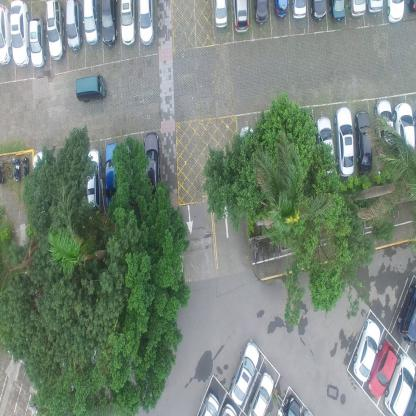car: (384, 351, 415, 415), (352, 316, 381, 384), (230, 339, 259, 407), (367, 341, 398, 399), (334, 106, 354, 178), (10, 0, 31, 68), (246, 370, 275, 416), (354, 108, 373, 176), (315, 115, 335, 179), (374, 96, 394, 159), (45, 0, 66, 60), (394, 98, 415, 157), (85, 146, 102, 213), (32, 150, 49, 217), (398, 286, 416, 343), (66, 0, 84, 55), (145, 130, 160, 194), (75, 74, 107, 103), (29, 17, 46, 69), (101, 0, 119, 49), (106, 140, 119, 207), (137, 0, 155, 48), (0, 4, 13, 66), (83, 0, 100, 45), (119, 0, 135, 47), (234, 0, 249, 36), (386, 0, 406, 27), (198, 392, 220, 415), (252, 0, 269, 26), (280, 394, 301, 415), (214, 0, 228, 30), (330, 0, 347, 23), (309, 0, 327, 21), (350, 0, 367, 20), (367, 0, 385, 18), (273, 0, 289, 20), (291, 0, 307, 20), (221, 402, 238, 416)
